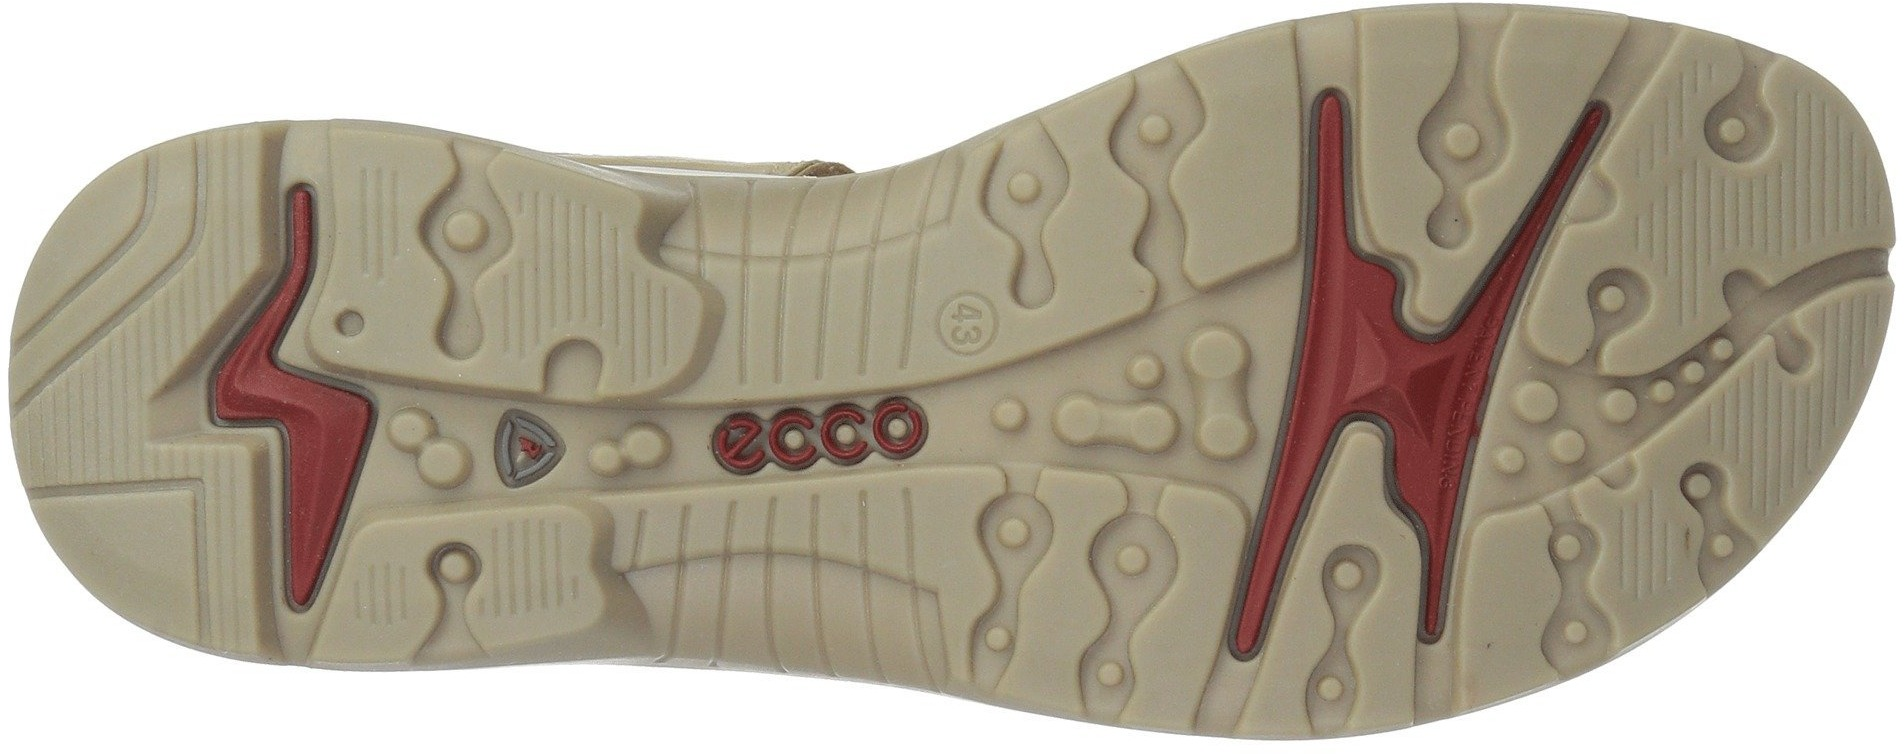circle: (1307, 551, 1402, 716), (387, 392, 478, 509), (1545, 511, 1600, 659), (1121, 108, 1198, 153), (993, 501, 1039, 561)
other: (635, 480, 967, 690), (702, 160, 968, 375), (1207, 33, 1291, 282), (475, 515, 593, 635), (352, 155, 406, 290)
text: (702, 389, 943, 491), (920, 288, 1020, 361)
